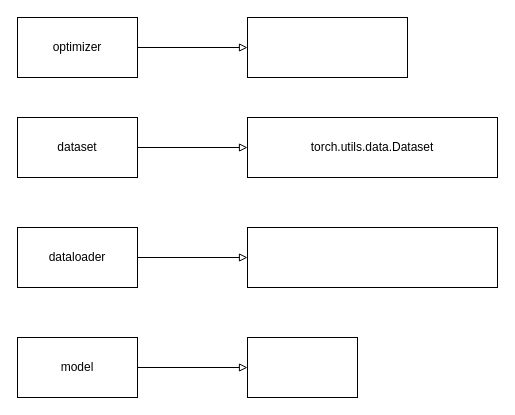
Some shapes in this 515 by 415 pixel diagram are drawn without their labels. The centre of each missing label's shape, as x and y in pixels:
"torch.nn" goes at point 302,367.
"torch.optim.Optimizer" goes at point 327,47.
"torch.utils.data.DataLoader" goes at point 372,257.
